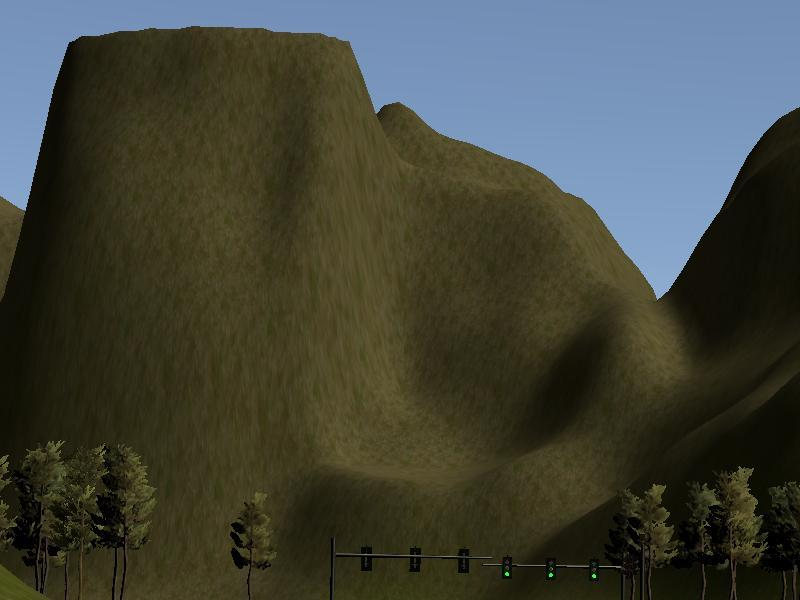Green: (588, 557, 599, 583), (501, 557, 512, 582), (545, 557, 556, 580)
